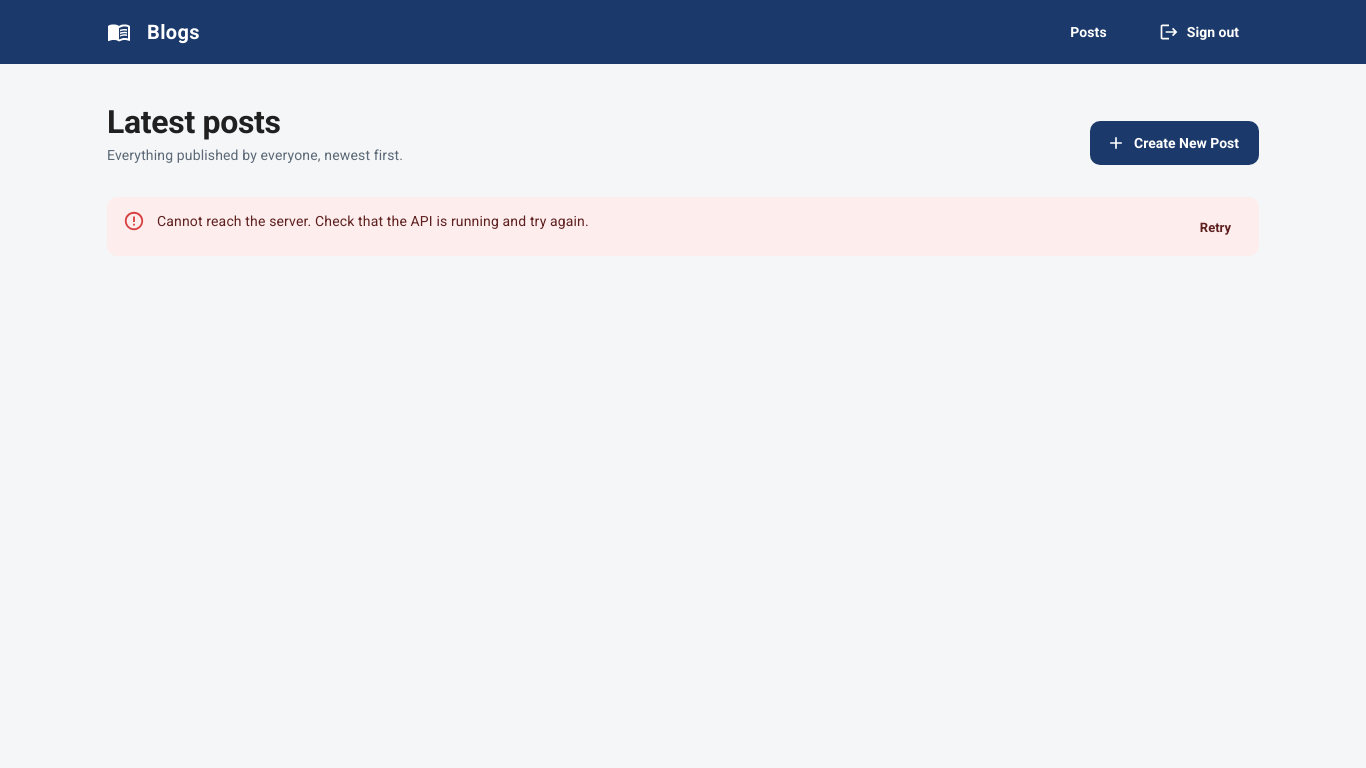
it: <Posts /> › surfaces a failed fetch and retries on demand
Expected: the message shows "Cannot reach the server. Check that the API is running and try again.", [157,213,589,229]
Click the button "Retry" at (1215, 229), box [1180,207,1251,250]
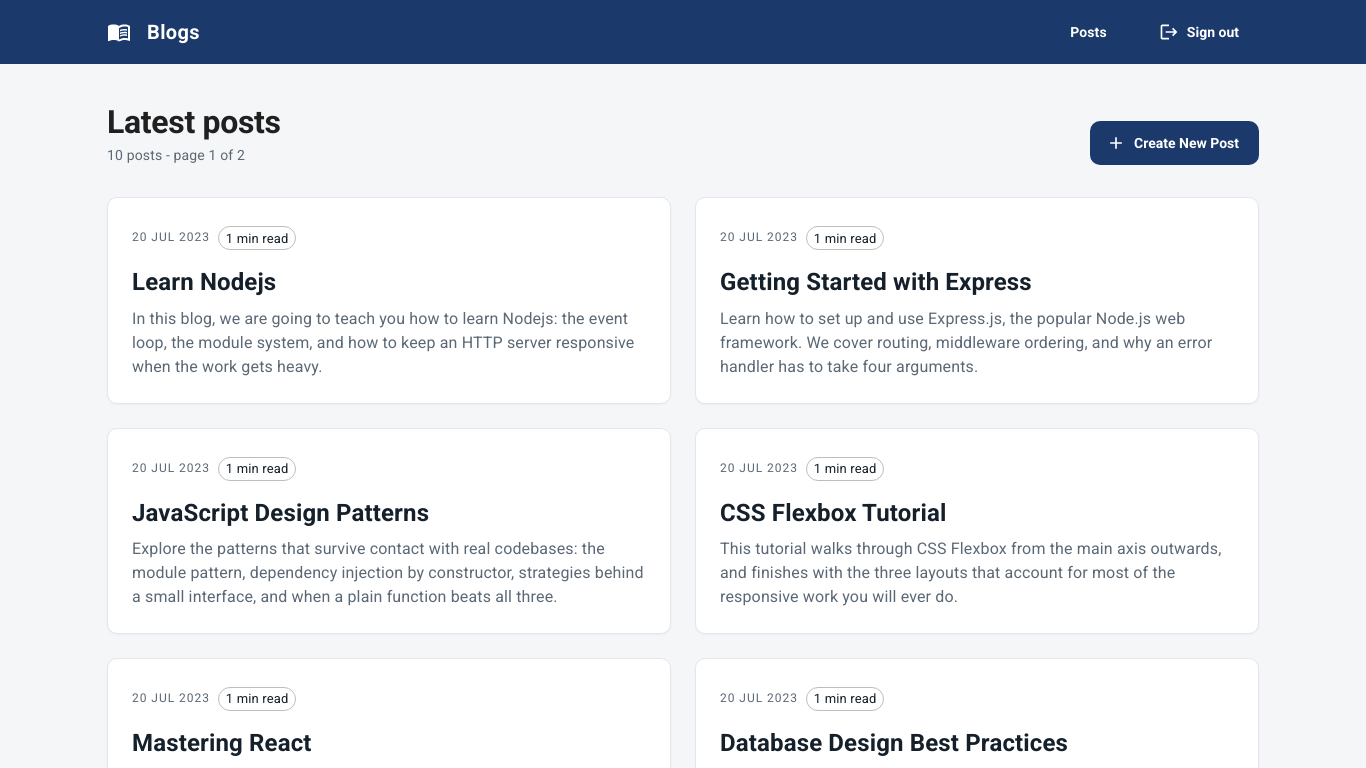
Expected: the heading "Learn Nodejs" is shown, [132,268,276,296]
Expected: the message "Cannot reach the server. Check that the API is running and try again. Retry" is gone
